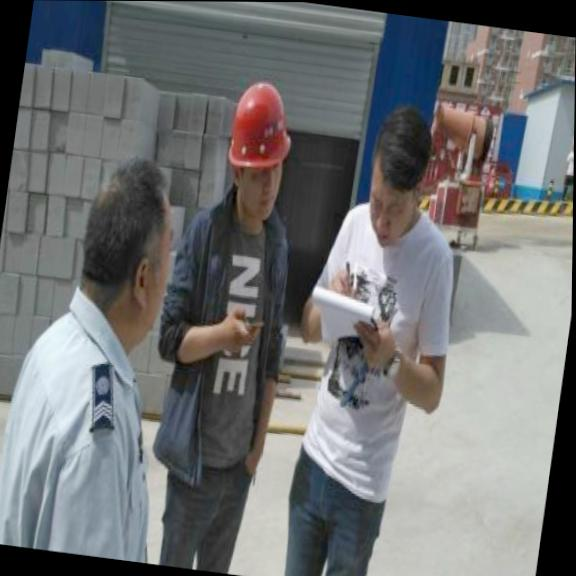no_safety_vest: (280, 193, 462, 477), (0, 297, 181, 562), (146, 201, 303, 495)
